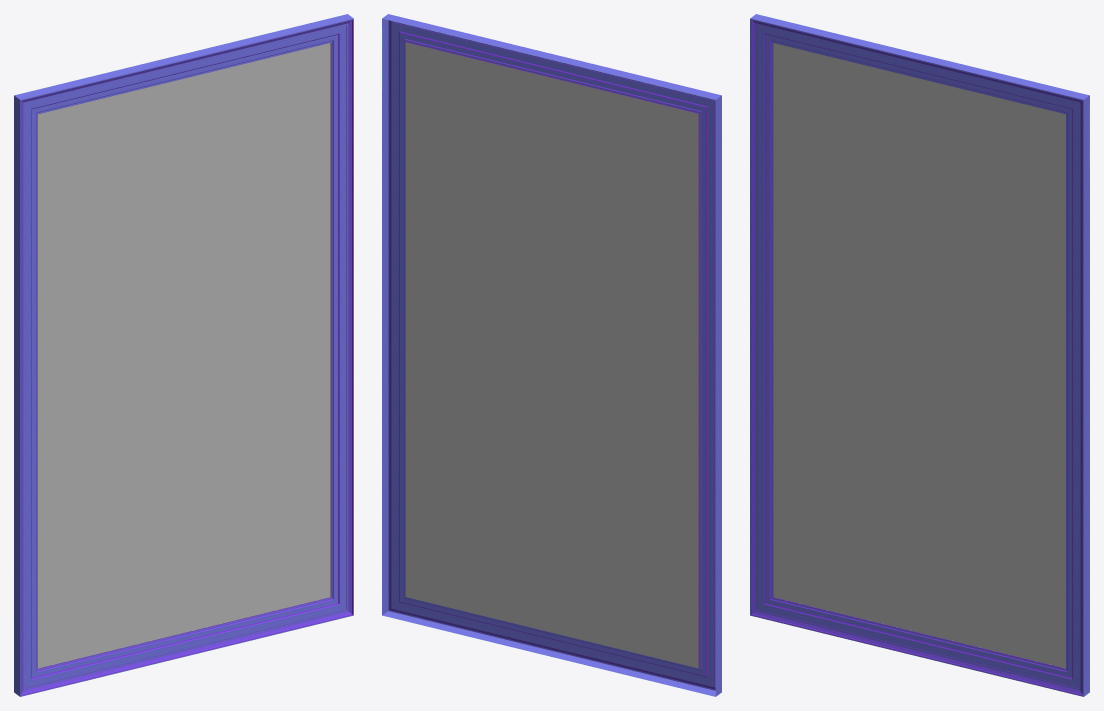
3 views of the same model, side by side, from view 1: azimuth 30°, elevation 25°; view 2: azimuth 150°, elevation 25°; view 3: azimuth 330°, elevation 25° (orthographic).
Visible parts, largest first — view 1: _14_22, _14_22_frame; view 2: _14_22, _14_22_frame; view 3: _14_22, _14_22_frame.
Boxes of the visible parts, bbox=[...] form: _14_22: bbox=[38, 43, 330, 668]; _14_22_frame: bbox=[14, 14, 353, 696]; _14_22: bbox=[405, 42, 698, 668]; _14_22_frame: bbox=[382, 14, 721, 696]; _14_22: bbox=[773, 43, 1065, 668]; _14_22_frame: bbox=[750, 14, 1089, 696].
Bounding box in the file's own units: 296 × 506 × 9.57.
